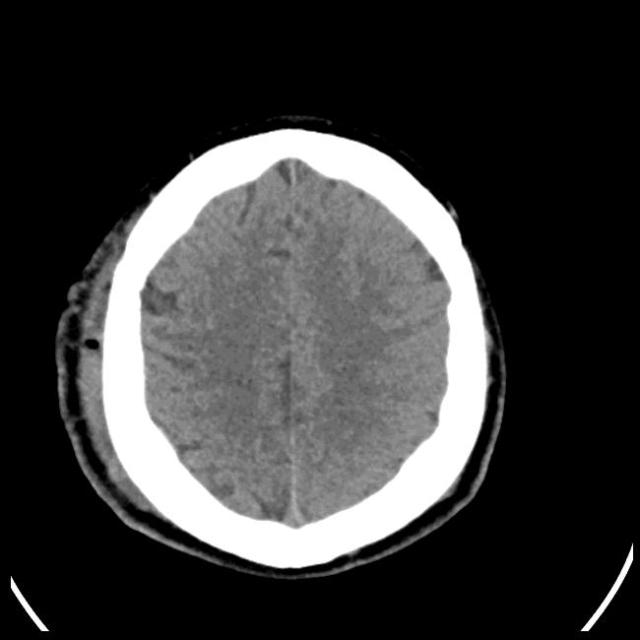lesion: (53, 119, 509, 580)
